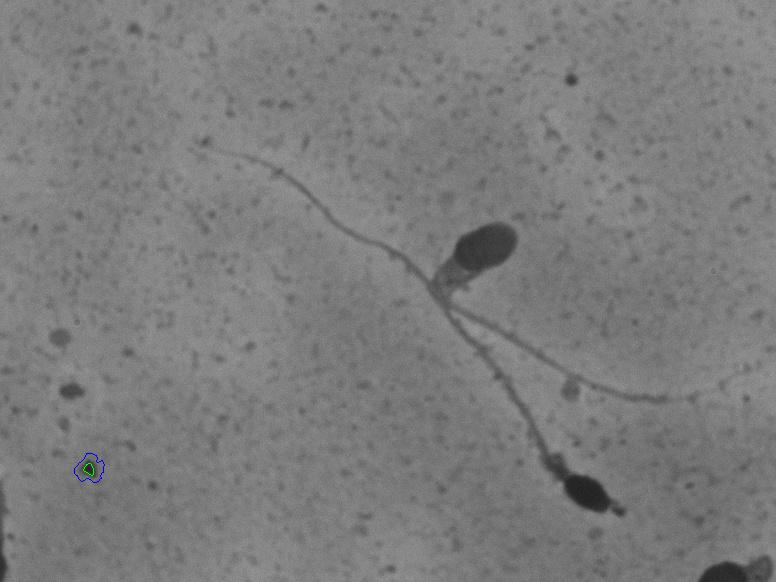Abnormal: (409, 184, 701, 377), (450, 383, 683, 566)
